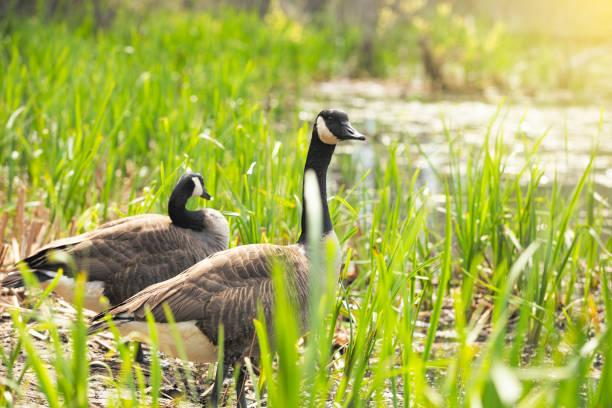Canadian-Goose: (90, 109, 370, 385), (15, 167, 230, 320)
